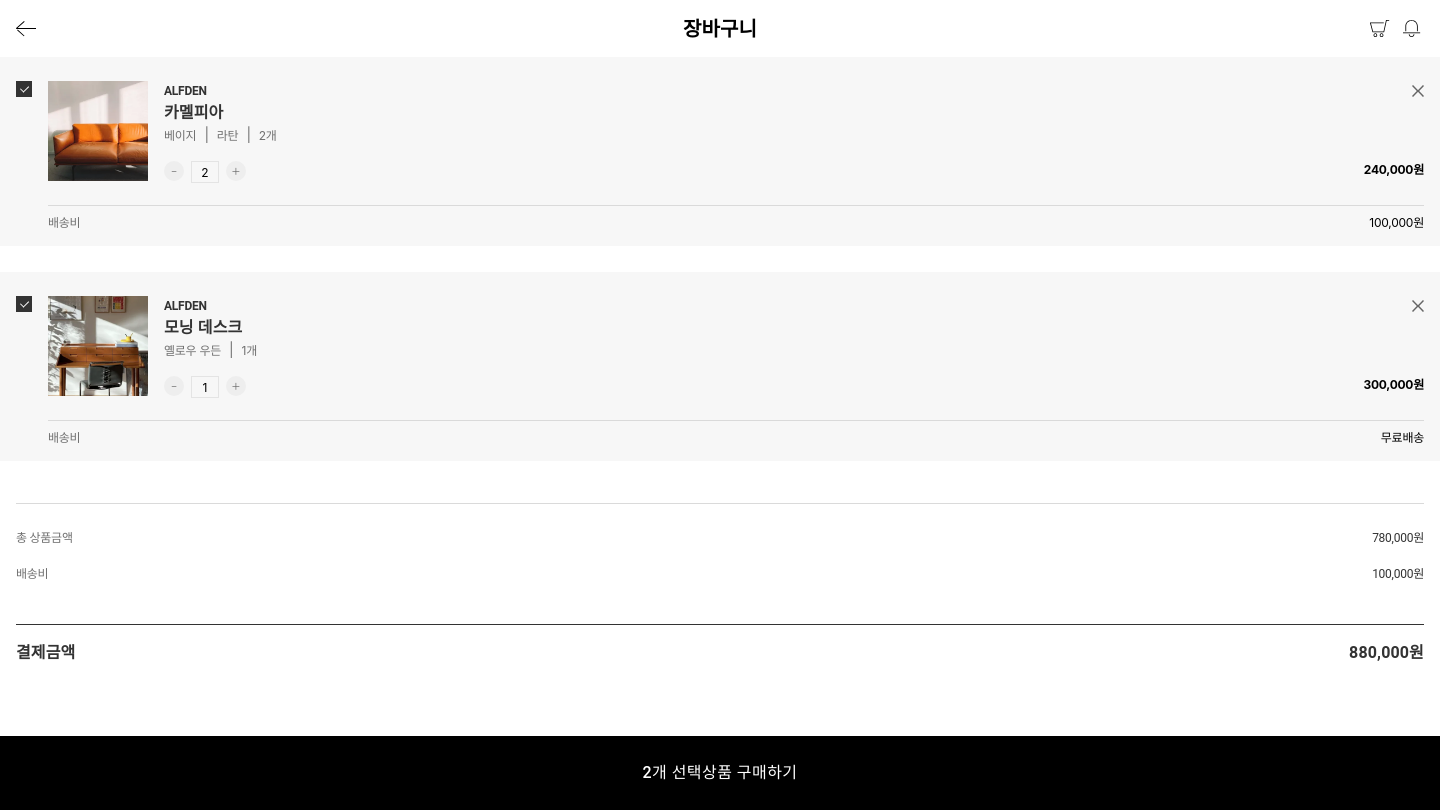
it: 모두 삭제하면 빈 장바구니 안내
The width and height of the screenshot is (1440, 810).
Click the button named "카멜피아 삭제".
click(1418, 91)  # box [1412,81,1424,101]
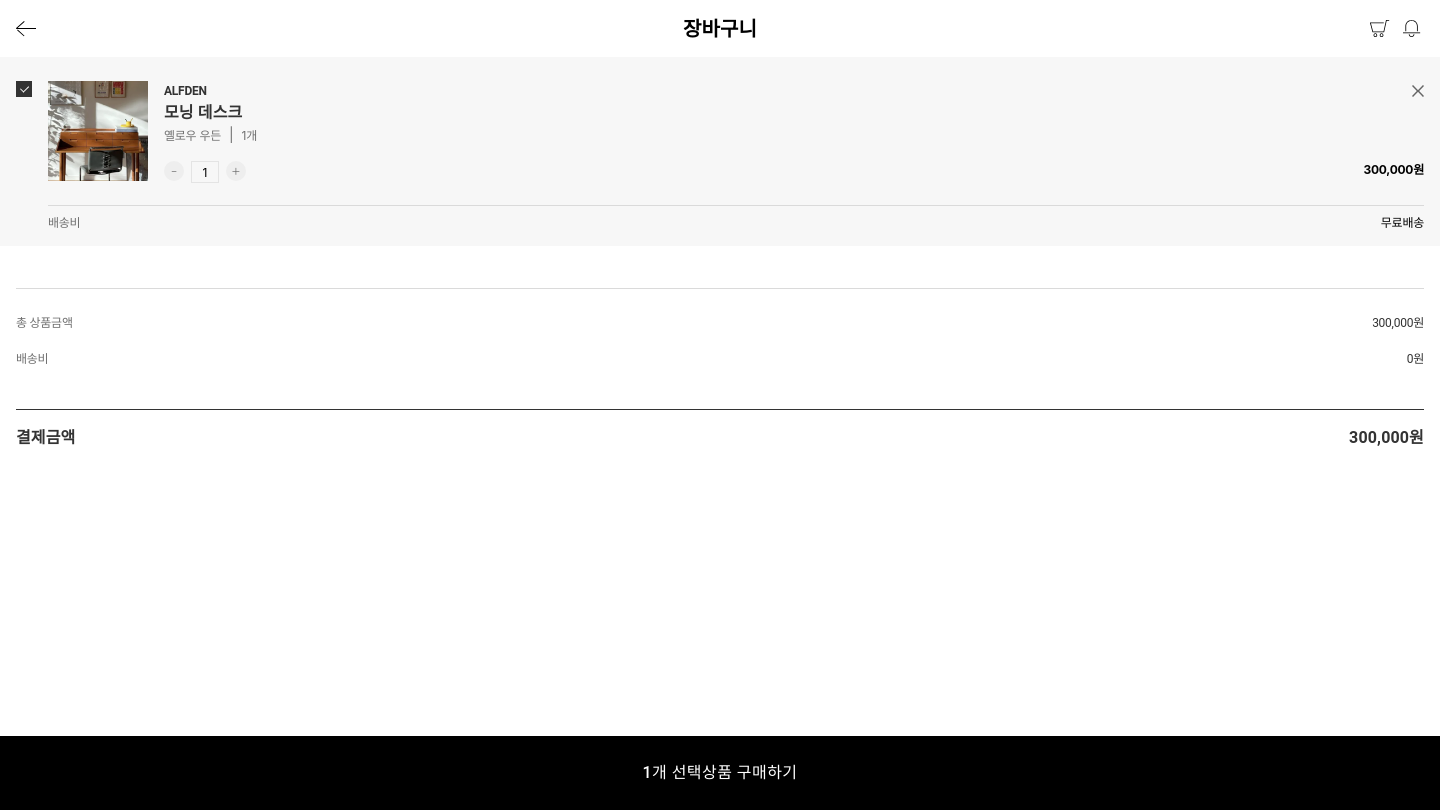
Click the button named "모닝 데스크 삭제".
click(1418, 91)  # box [1412,81,1424,101]
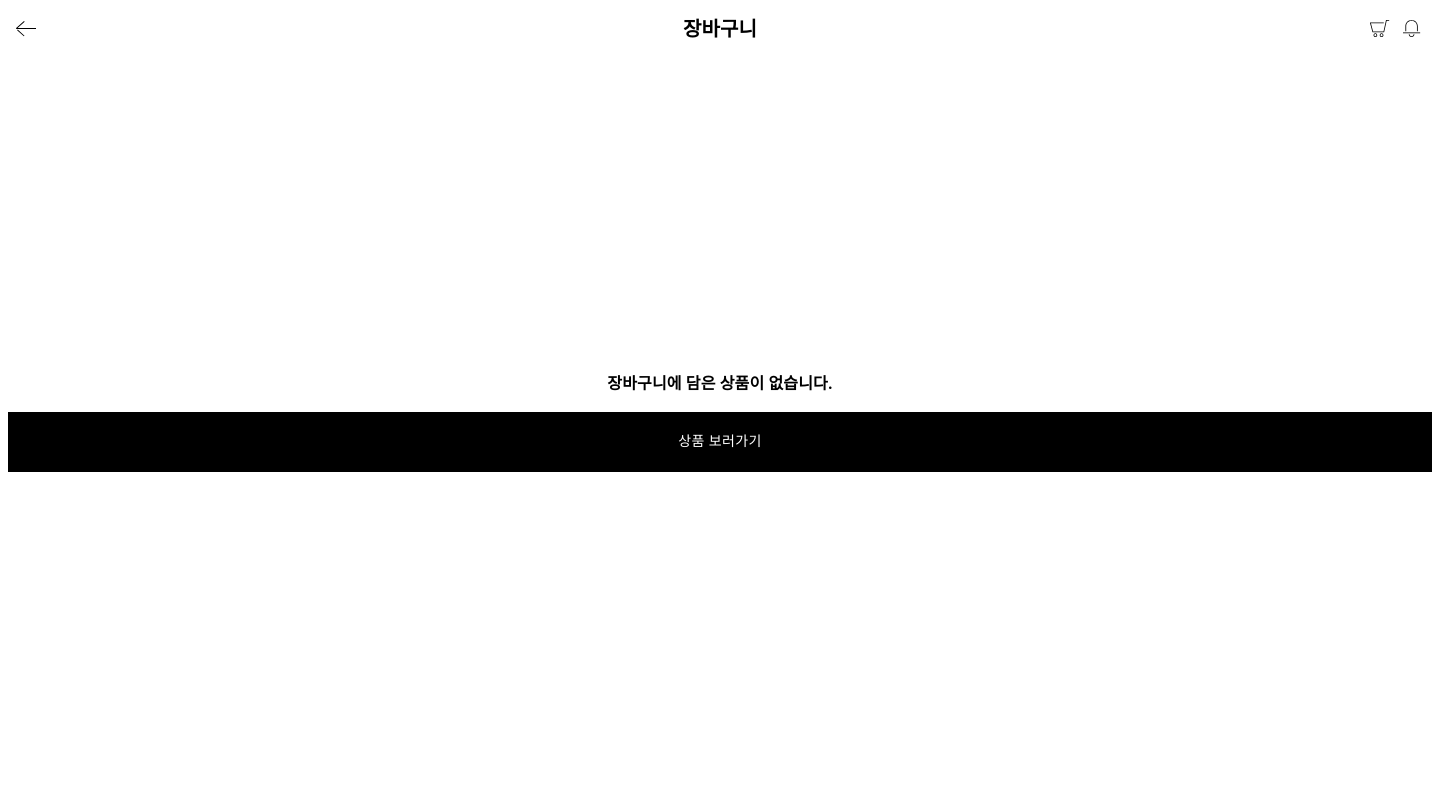
expect the text "장바구니에 담은 상품이 없습니다." is shown: met, box [607,372,833,396]
